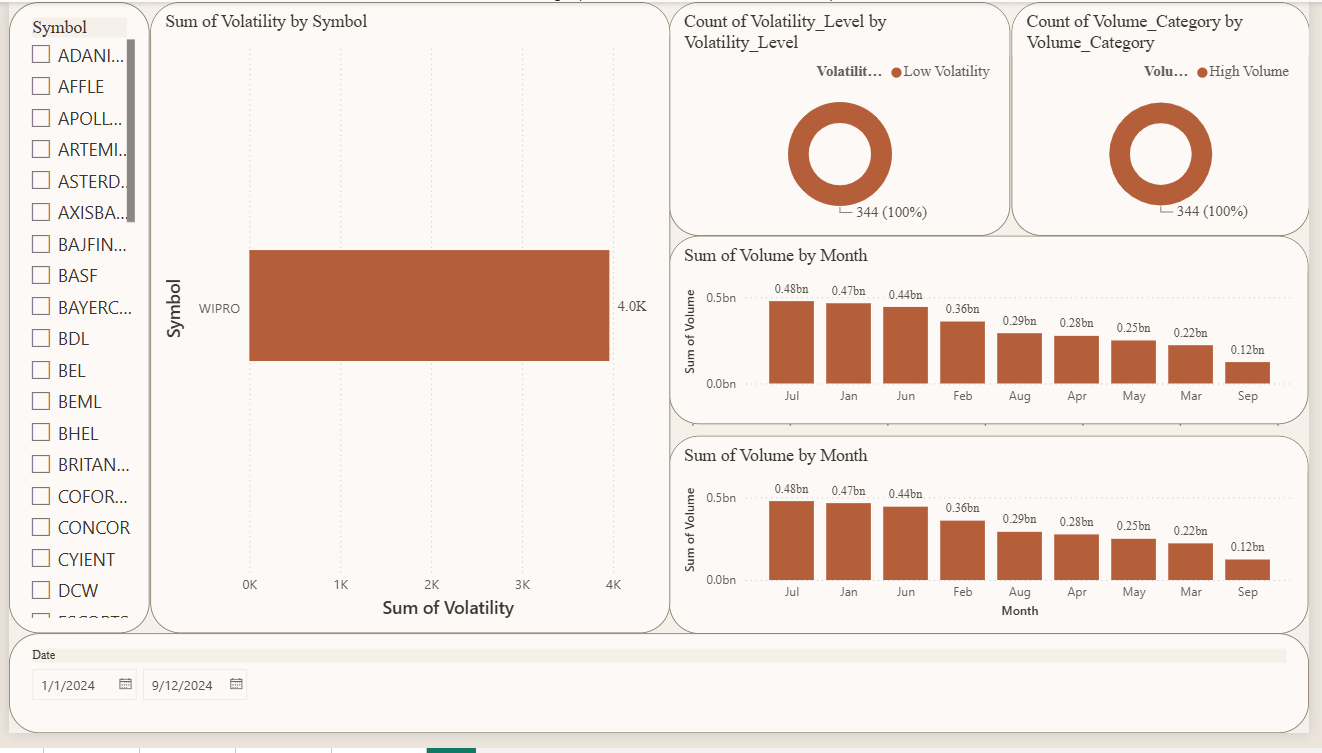

This screenshot's page, from the dashboard's own definition file:
{"tool":"powerbi","page":{"name":"Page 3","canvas":[1280,720],"ordinal":2},"visuals":[{"type":"columnChart","fields":{"Y":["Sum(Stockslive.Volume)"],"Category":["Stockslive.Month"]},"box":[650.4,230.5,629.8,185.2],"z":0},{"type":"donutChart","fields":{"Category":["Stockslive.Volatility_Level"],"Y":["CountNonNull(Stockslive.Volatility_Level)"]},"box":[650.4,0,336.2,230.5],"z":1000},{"type":"donutChart","fields":{"Category":["Stockslive.Volume_Category"],"Y":["CountNonNull(Stockslive.Volume_Category)"]},"box":[986.6,0,293.7,230.5],"z":2000},{"type":"columnChart","fields":{"Y":["Sum(Stockslive.Volume)"],"Category":["Stockslive.Month"]},"box":[650.4,426.8,629.8,194.9],"z":3000},{"type":"barChart","fields":{"Category":["Stockslive.Symbol"],"Y":["Sum(Stockslive.Volatility)"]},"box":[138.6,0,511.8,621.6],"z":4000},{"type":"slicer","fields":{"Values":["Stockslive.Date"]},"box":[0,621.6,1280.3,98.8],"z":5000},{"type":"slicer","fields":{"Values":["Stockslive.Symbol"]},"box":[0,0,138.6,621.6],"z":6000}]}

Visuals, with their boxes in screenshot pixels (x1, y1, x2, y2), scaled from the page's 1280x720 canvas onto the 1322x753 screenshot:
columnChart - Sum(Stockslive.Volume) x Stockslive.Month: 672,241,1321,435
donutChart - Stockslive.Volatility_Level x CountNonNull(Stockslive.Volatility_Level): 672,0,1019,241
donutChart - Stockslive.Volume_Category x CountNonNull(Stockslive.Volume_Category): 1019,0,1321,241
columnChart - Sum(Stockslive.Volume) x Stockslive.Month: 672,446,1321,650
barChart - Stockslive.Symbol x Sum(Stockslive.Volatility): 143,0,672,650
slicer - Stockslive.Date: 0,650,1321,752
slicer - Stockslive.Symbol: 0,0,143,650
